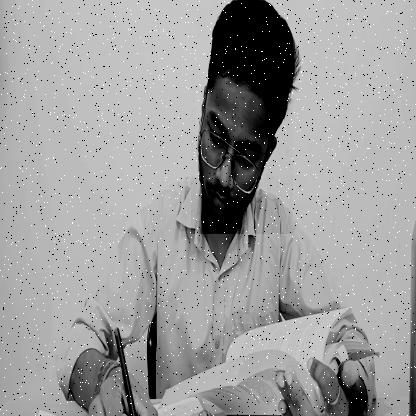Distracted: (191, 1, 293, 234)
